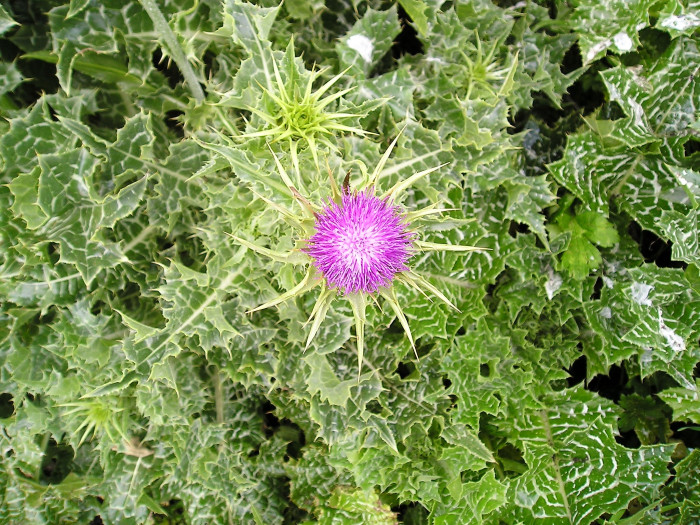thistle: (235, 147, 475, 343)
